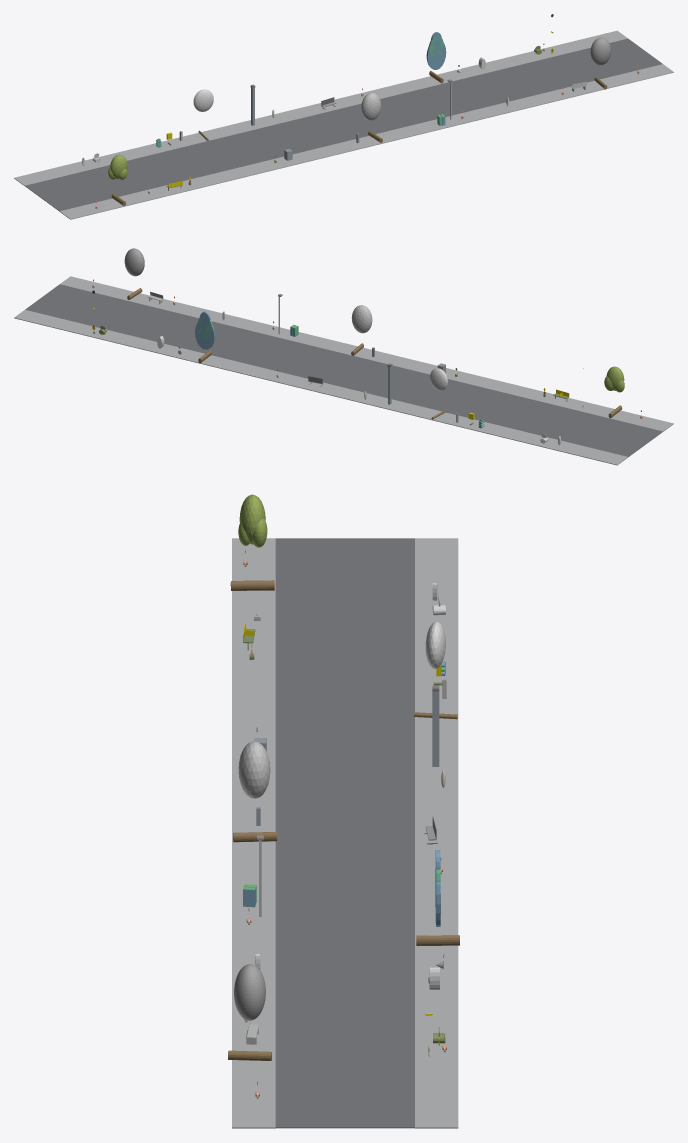
The picture shows the model from 3 angles, top to bottom: view 1: azimuth 30°, elevation 25°; view 2: azimuth 150°, elevation 25°; view 3: azimuth 270°, elevation 25°; orthographic projection. The views are drawn at different scales.
Parts seen in each view (by area): view 1: road_slab, sidewalk_left, sidewalk_right, inst_0015, inst_0016, inst_0014, inst_0012, inst_0013; view 2: road_slab, sidewalk_right, sidewalk_left, inst_0015, inst_0014, inst_0016, inst_0012, inst_0013; view 3: road_slab, sidewalk_right, sidewalk_left, inst_0016, inst_0014, inst_0012, inst_0013, inst_0015.
Part boxes in pixels (box(x1,y1,x2,y2)): road_slab: box(25, 38, 662, 211); sidewalk_left: box(59, 64, 673, 219); sidewalk_right: box(14, 30, 627, 185); inst_0015: box(426, 32, 446, 83); inst_0016: box(590, 37, 611, 89); inst_0014: box(361, 92, 382, 142); inst_0012: box(108, 154, 127, 206); inst_0013: box(193, 89, 213, 141); road_slab: box(25, 284, 662, 456); sidewalk_right: box(14, 310, 628, 465); sidewalk_left: box(60, 276, 673, 431); inst_0015: box(195, 311, 214, 363); inst_0014: box(351, 305, 372, 355); inst_0016: box(124, 248, 144, 299); inst_0012: box(604, 366, 624, 418); inst_0013: box(430, 368, 447, 419); road_slab: box(275, 538, 414, 1128); sidewalk_right: box(415, 538, 458, 1128); sidewalk_left: box(232, 538, 275, 1128); inst_0016: box(228, 964, 271, 1060); inst_0014: box(233, 741, 276, 842); inst_0012: box(230, 494, 274, 590); inst_0013: box(414, 621, 457, 719); inst_0015: box(416, 850, 459, 945).
Bounding box in the file's own units: 80 × 6.08 × 13.32.
